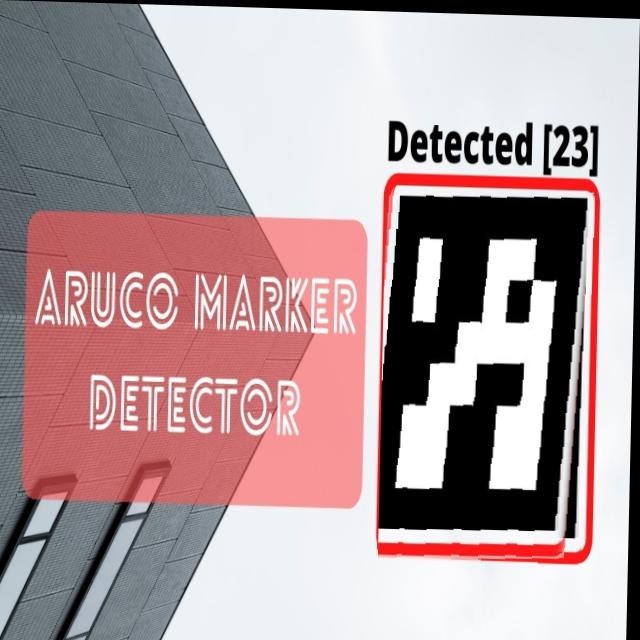aruco: (381, 184, 595, 563)
